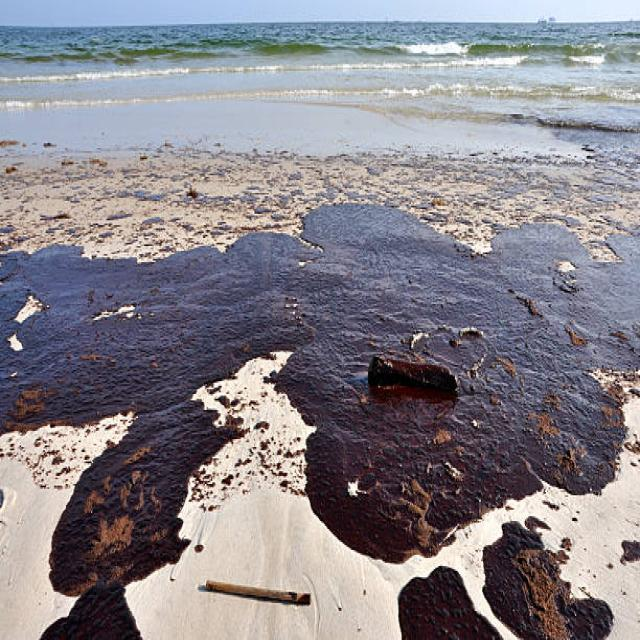sheen: (0, 196, 639, 640)
